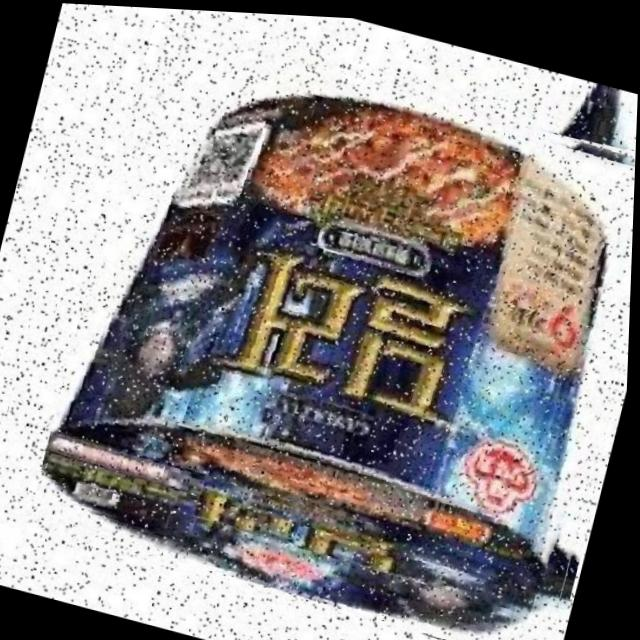Miscellaneous: (25, 2, 640, 640)
